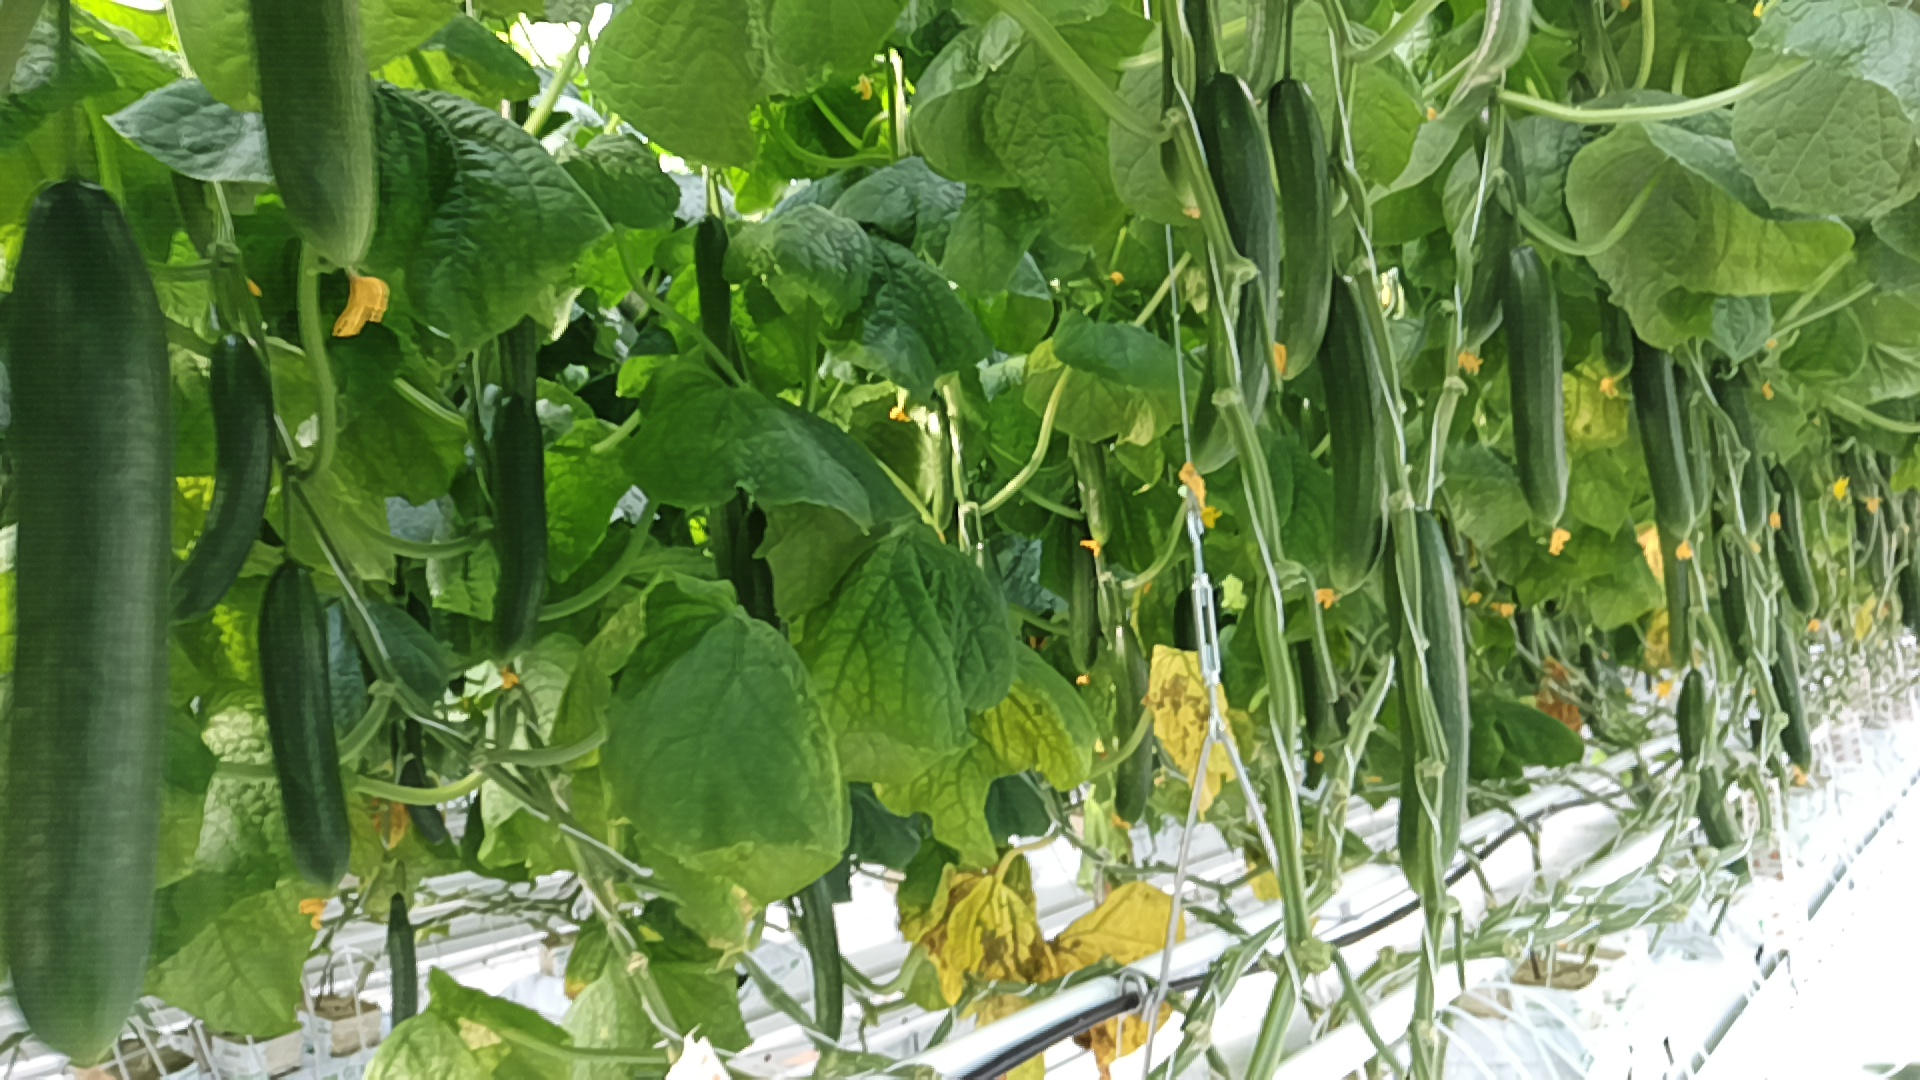gurka: (247, 555, 375, 899), (1482, 216, 1604, 541), (171, 313, 278, 633), (1316, 272, 1400, 624), (485, 382, 575, 661), (1621, 316, 1718, 562), (1673, 666, 1758, 907), (785, 866, 860, 1072), (684, 204, 746, 384), (367, 882, 422, 1054)
